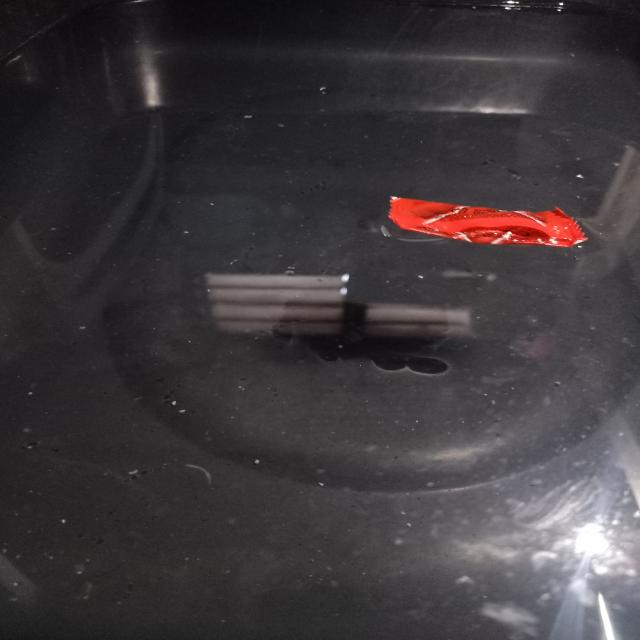Plastic Wrapper: (388, 196, 587, 247)
